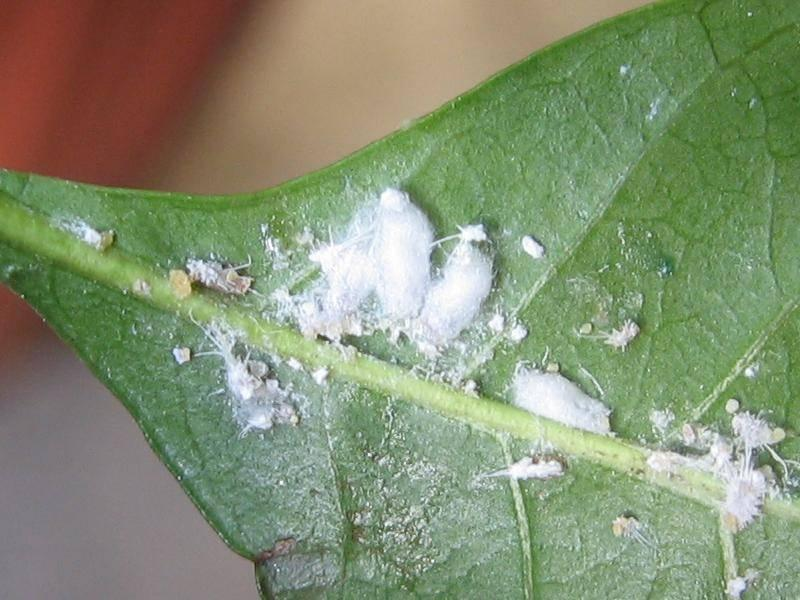pseudococcidae: (50, 171, 799, 599)
